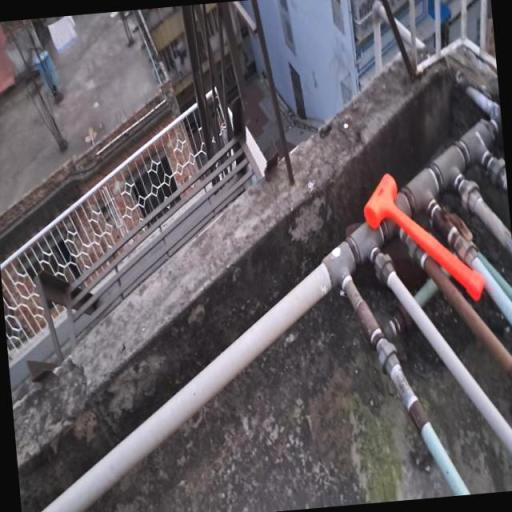mallet: (360, 167, 485, 311)
